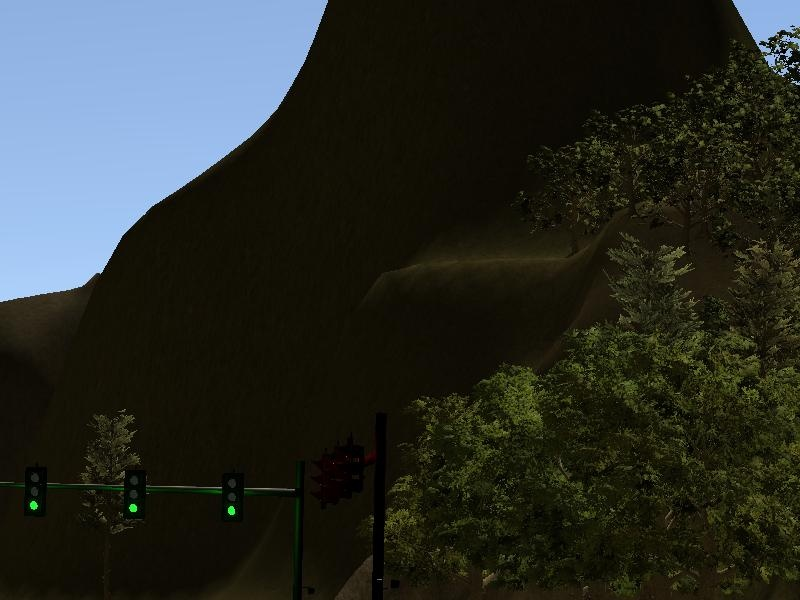Green: (23, 466, 48, 518), (221, 473, 244, 524), (124, 469, 146, 518)
